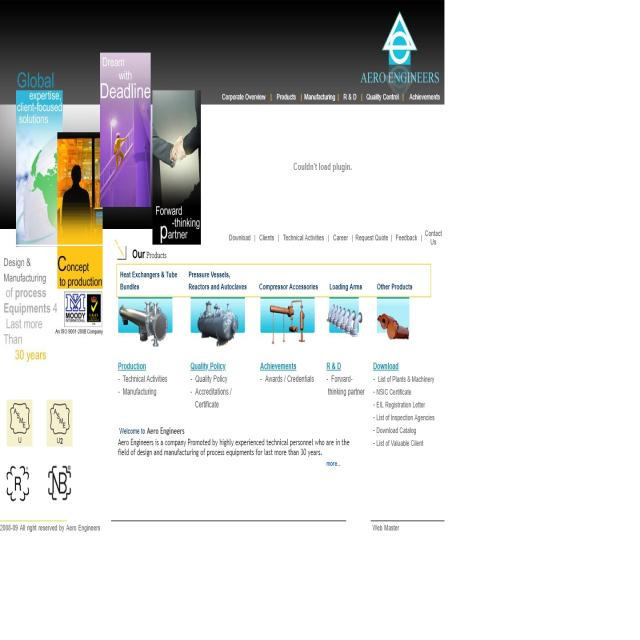button: (184, 266, 250, 356), (258, 265, 320, 358), (118, 270, 176, 360), (374, 262, 414, 354), (325, 267, 367, 354), (220, 89, 270, 105), (280, 231, 326, 244), (407, 88, 444, 104), (364, 89, 401, 104), (302, 89, 337, 104), (273, 90, 300, 106), (422, 227, 443, 246), (354, 233, 390, 244), (228, 232, 252, 245), (394, 232, 418, 244), (341, 88, 358, 104), (330, 231, 350, 244), (256, 232, 278, 242)
heading: (118, 424, 186, 436), (129, 246, 169, 263)
image: (100, 52, 151, 229), (152, 89, 202, 245), (17, 91, 63, 242), (58, 133, 102, 290), (356, 8, 444, 86), (118, 298, 174, 354), (190, 298, 246, 354), (260, 297, 315, 354), (42, 458, 81, 508), (41, 399, 78, 450), (328, 294, 363, 346), (3, 458, 37, 509), (377, 298, 411, 348), (4, 400, 35, 451), (63, 291, 103, 327)
link: (258, 361, 298, 372), (189, 360, 228, 371), (116, 361, 151, 372), (372, 359, 400, 372), (326, 458, 346, 469), (324, 362, 344, 371)
text: (1, 254, 58, 366), (372, 372, 438, 450), (117, 438, 356, 458), (15, 71, 63, 126), (100, 52, 150, 101), (153, 201, 201, 246), (358, 66, 441, 88), (190, 371, 234, 412), (58, 250, 103, 290), (117, 374, 170, 399), (326, 371, 364, 400), (290, 160, 352, 176), (260, 372, 314, 389)
